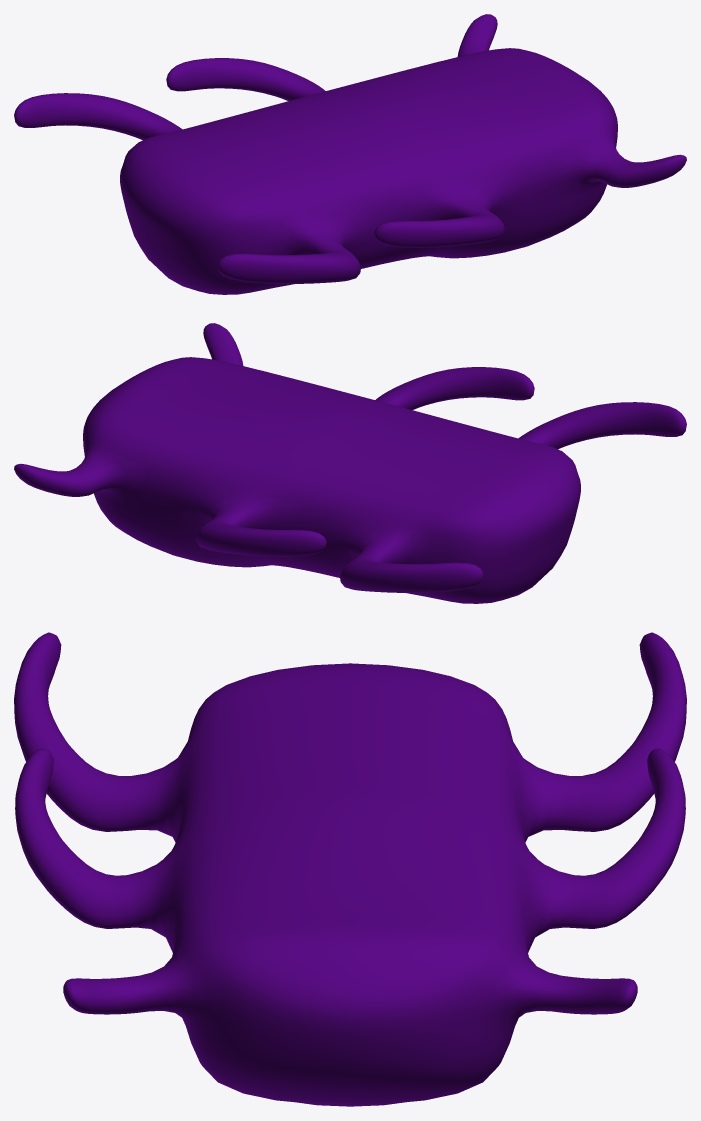
File: purpleroach.fbx
3 renders of one model, top to bottom at view 1: azimuth 30°, elevation 25°; view 2: azimuth 150°, elevation 25°; view 3: azimuth 270°, elevation 25°, orthographic. The views are drawn at different scales.
Parts seen in each view (by area): view 1: pCube3; view 2: pCube3; view 3: pCube3.
Boxes of the visible parts, left/top/right/bottom form: pCube3: left=14, top=14, right=686, bottom=294; pCube3: left=14, top=323, right=686, bottom=603; pCube3: left=14, top=632, right=686, bottom=1106.
Bounding box in the file's own units: 2.35 × 0.7074 × 1.94.
